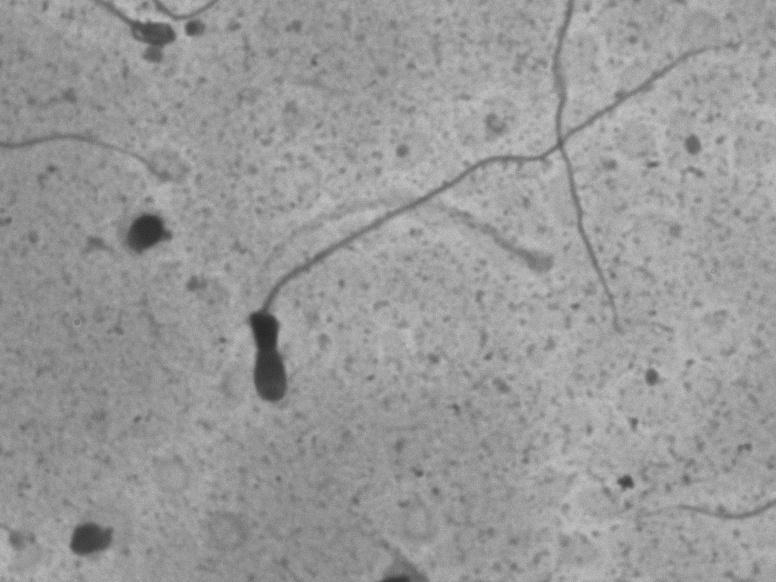Abnormal: (205, 115, 509, 434)
